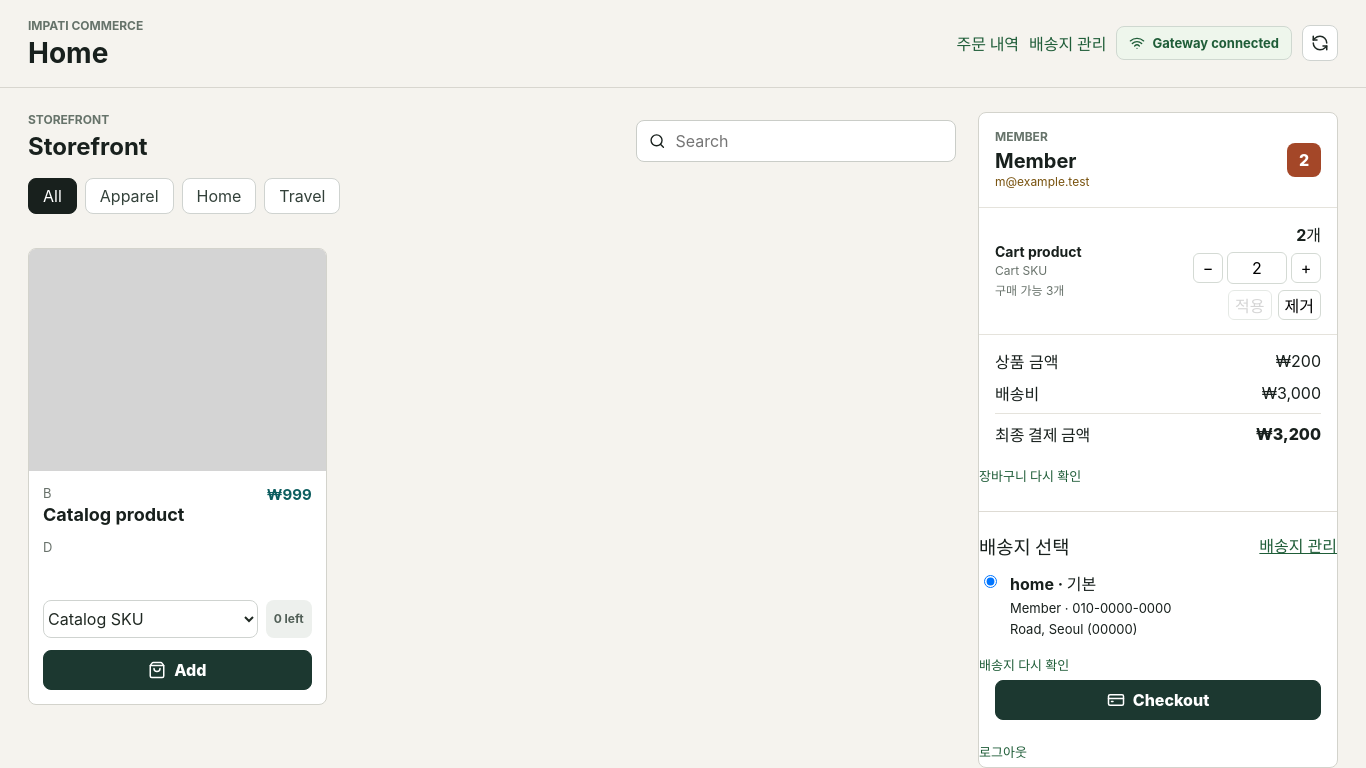
Test: does not simulate a successful addition on an explicit rejection
Check: the button "Checkout" is enabled, box x1=995 y1=680 x2=1321 y2=720
Click the button "Add".
click(177, 670)  # box x1=43 y1=650 x2=312 y2=690
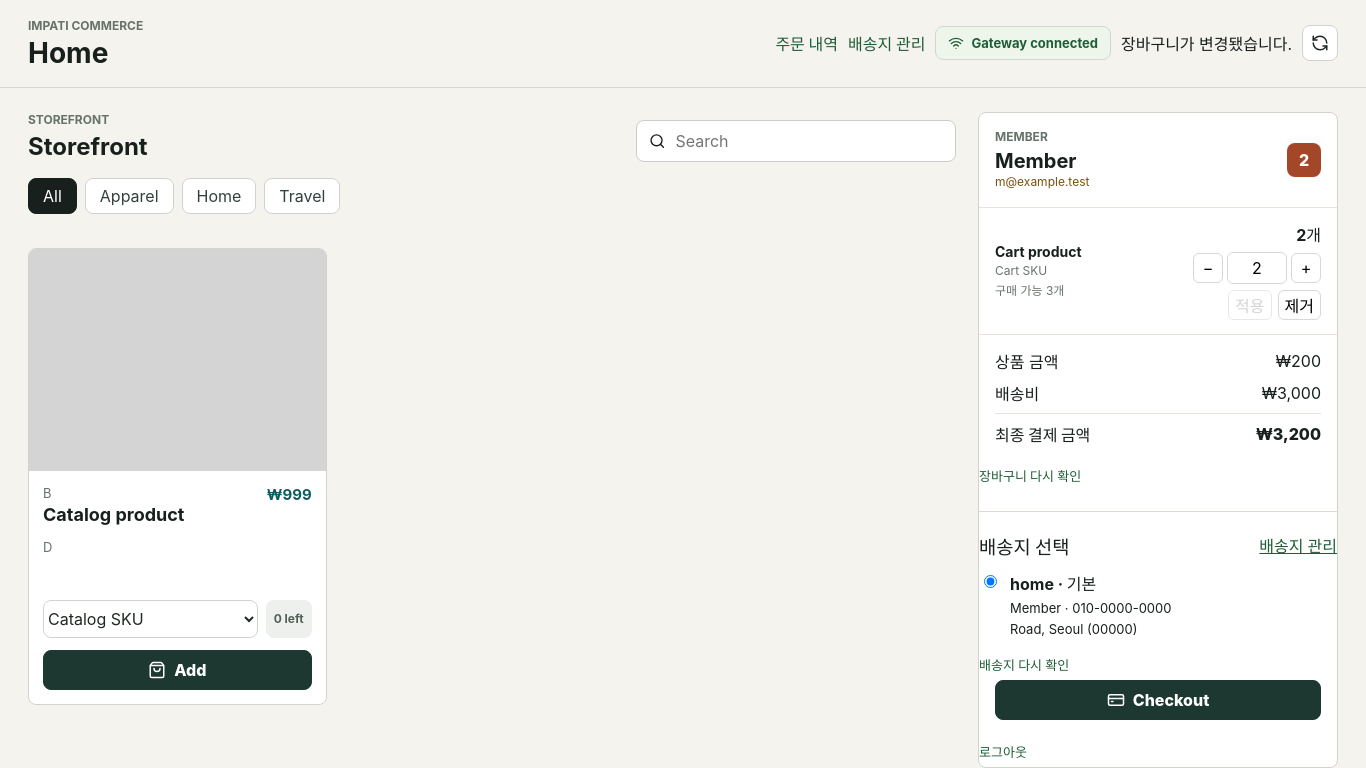
Check: the text "2개" is shown, box x1=1296 y1=222 x2=1321 y2=246
Check: the text "장바구니가 변경됐습니다." is shown, box x1=1121 y1=31 x2=1292 y2=55
